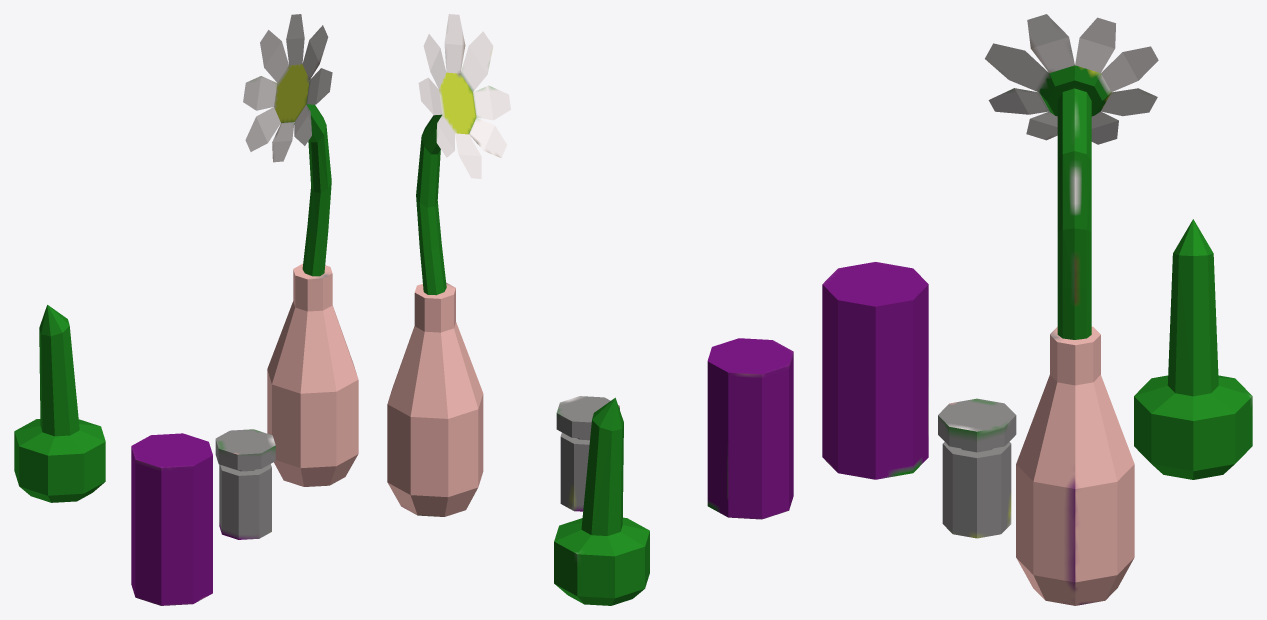
The model's file is Adornos.obj.
3 views of the same model, side by side, from view 1: azimuth 30°, elevation 25°; view 2: azimuth 150°, elevation 25°; view 3: azimuth 270°, elevation 25° (orthographic). The views are drawn at different scales.
Visible parts, largest first — view 1: Adornos_Cube.001; view 2: Adornos_Cube.001; view 3: Adornos_Cube.001.
Boxes of the visible parts, x1,y1,x2,y2 form: Adornos_Cube.001: (14,14,358,605); Adornos_Cube.001: (387,14,793,605); Adornos_Cube.001: (822,14,1252,605).
Bounding box in the file's own units: 2.7 × 3.98 × 2.69.
